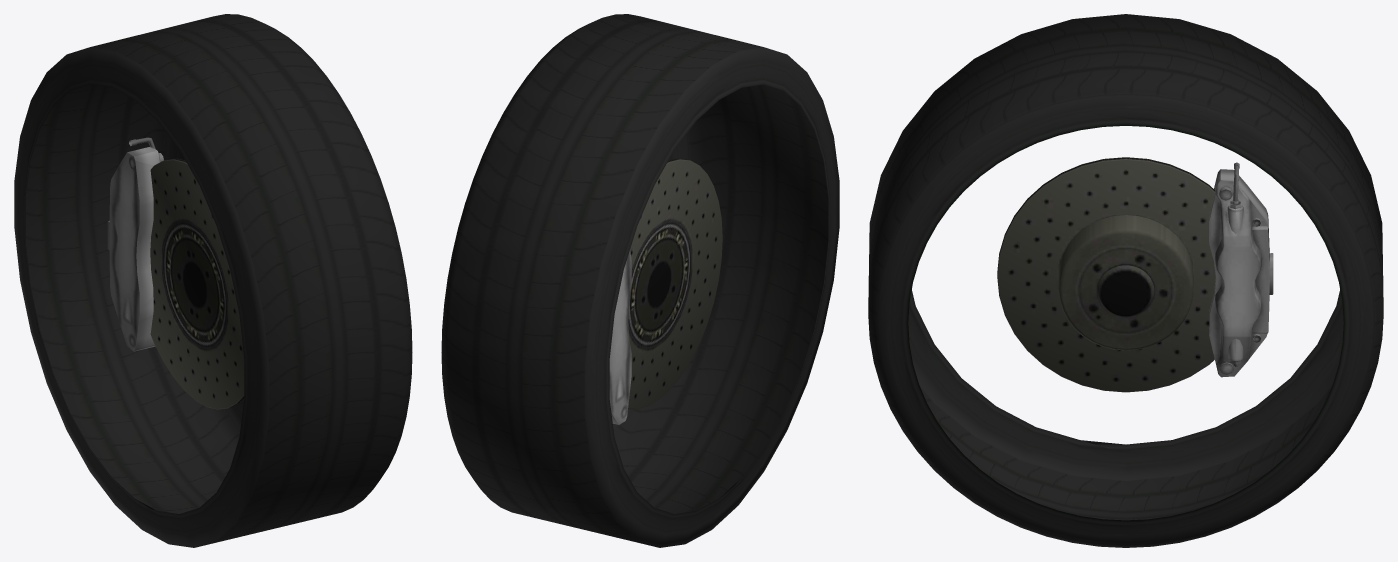
The model's file is 21inches.fbx.
The picture shows the model from 3 angles, left to right: view 1: azimuth 30°, elevation 25°; view 2: azimuth 150°, elevation 25°; view 3: azimuth 270°, elevation 25°; orthographic projection.
Visible parts, largest first — view 1: 21inches, disk, brake_disk; view 2: 21inches, disk, brake_disk; view 3: 21inches, disk, brake_disk.
Part boxes in pixels (<box>): 21inches: <box>14,14,412,547</box>; disk: <box>150,158,244,409</box>; brake_disk: <box>107,137,163,351</box>; 21inches: <box>441,14,839,547</box>; disk: <box>628,158,722,409</box>; brake_disk: <box>609,249,631,424</box>; 21inches: <box>868,14,1383,547</box>; disk: <box>997,157,1215,392</box>; brake_disk: <box>1209,162,1273,377</box>.
Size of the model in its own units: 0.2248 by 0.6198 by 0.6198.
